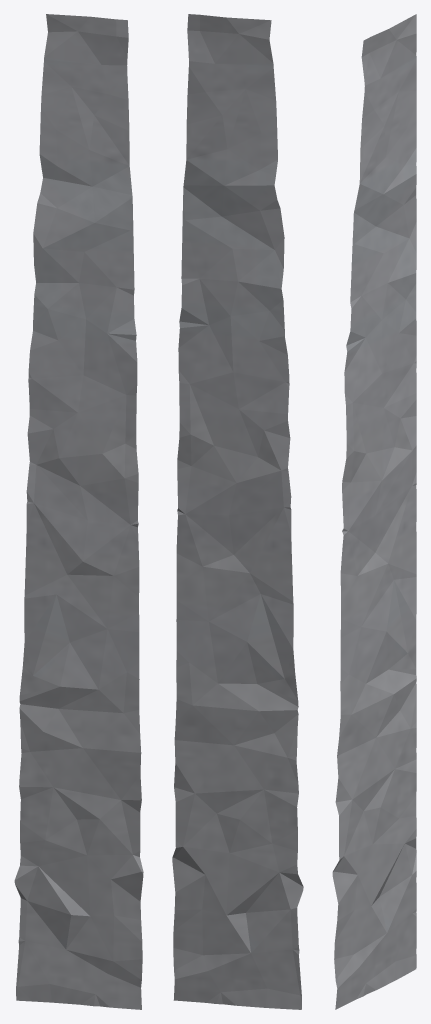
3 renders of one model, left to right at view 1: azimuth 30°, elevation 25°; view 2: azimuth 210°, elevation 25°; view 3: azimuth 270°, elevation 25°, orthographic. The views are drawn at different scales.
Bounding box in the file's own units: 0.0775 × 0.8374 × 0.0658.
1 material, 1 textured.
